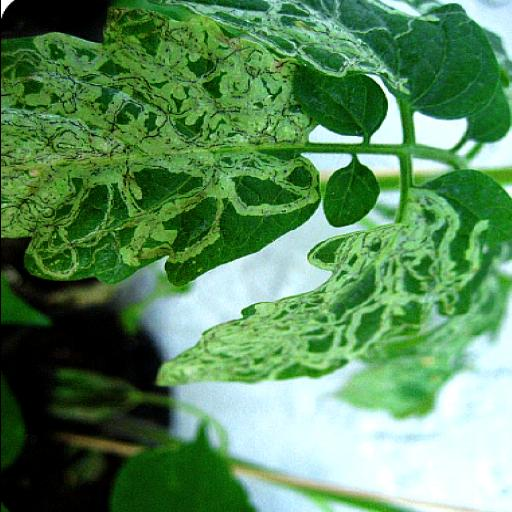Leaf Miner: (0, 0, 321, 288), (152, 170, 512, 392)
